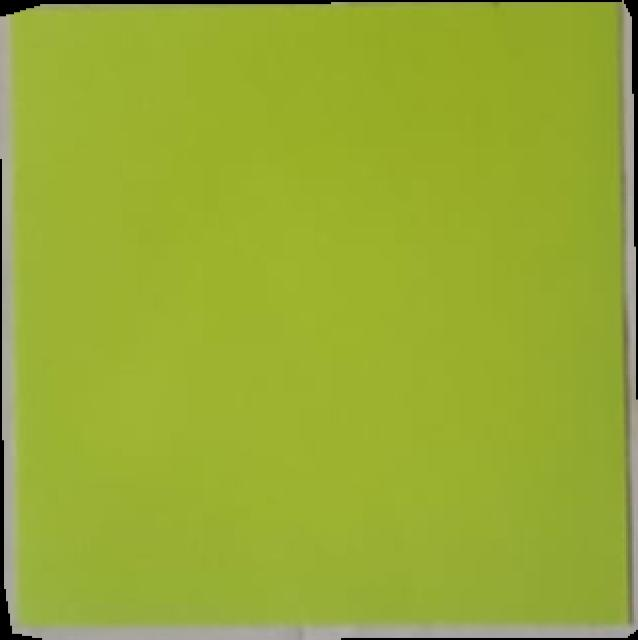Boxes: (0, 0, 638, 640)
